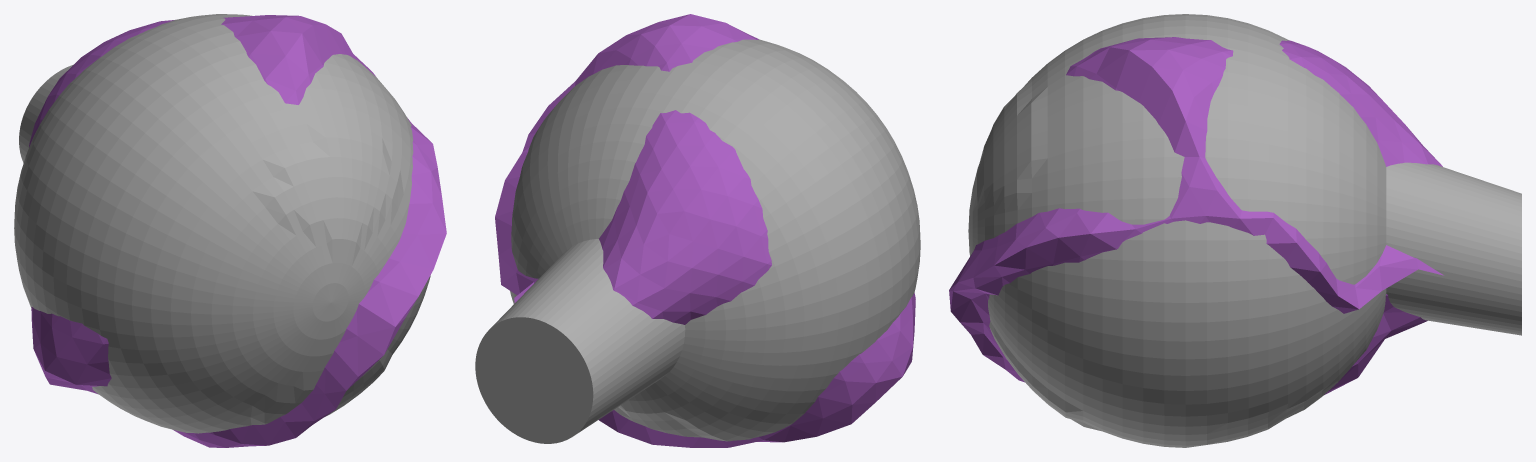
The model's file is G10_A2_ALIGNED_GT.glb.
3 views of the same model, side by side, from view 1: azimuth 30°, elevation 25°; view 2: azimuth 150°, elevation 25°; view 3: azimuth 270°, elevation 25° (orthographic). The views are drawn at different scales.
Visible parts, largest first — view 1: Independent_GT, A2; view 2: Independent_GT, A2; view 3: Independent_GT, A2.
Boxes of the visible parts, bbox=[...] form: Independent_GT: bbox=[14, 14, 430, 433]; A2: bbox=[29, 15, 446, 447]; Independent_GT: bbox=[475, 39, 920, 443]; A2: bbox=[495, 14, 915, 447]; Independent_GT: bbox=[968, 14, 1521, 447]; A2: bbox=[949, 37, 1443, 394].
Size of the model in its own units: 0.00626 by 0.00641 by 0.00818.
